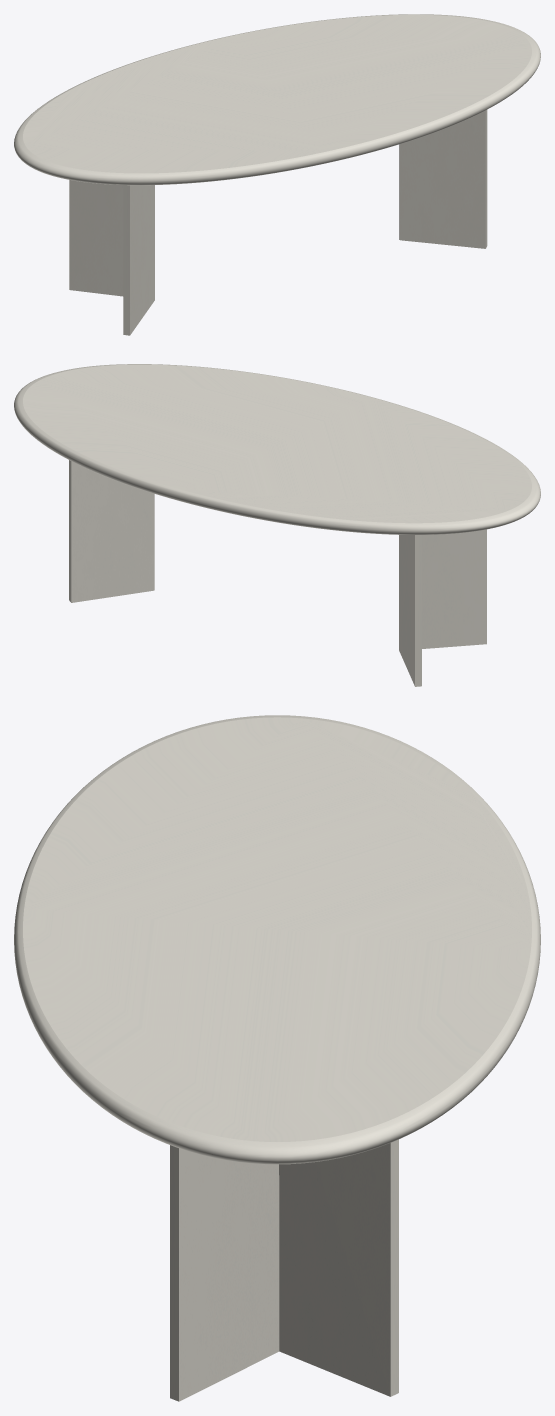
The model's file is pale_ellips_round_valleyv.glb.
The picture shows the model from 3 angles, top to bottom: view 1: azimuth 30°, elevation 25°; view 2: azimuth 150°, elevation 25°; view 3: azimuth 270°, elevation 25°; orthographic projection. The views are drawn at different scales.
Visible parts, largest first — view 1: round_ellips, valleyv; view 2: round_ellips, valleyv; view 3: round_ellips, valleyv.
Part boxes in pixels (left/top/right/bottom): round_ellips: left=14, top=14, right=540, bottom=185; valleyv: left=69, top=110, right=487, bottom=335; round_ellips: left=14, top=364, right=540, bottom=534; valleyv: left=69, top=460, right=486, bottom=686; round_ellips: left=14, top=715, right=540, bottom=1164; valleyv: left=170, top=1139, right=398, bottom=1401.
Bounding box in the file's own units: 7.5 × 2.5 × 3.8.
1 material, 1 textured.
